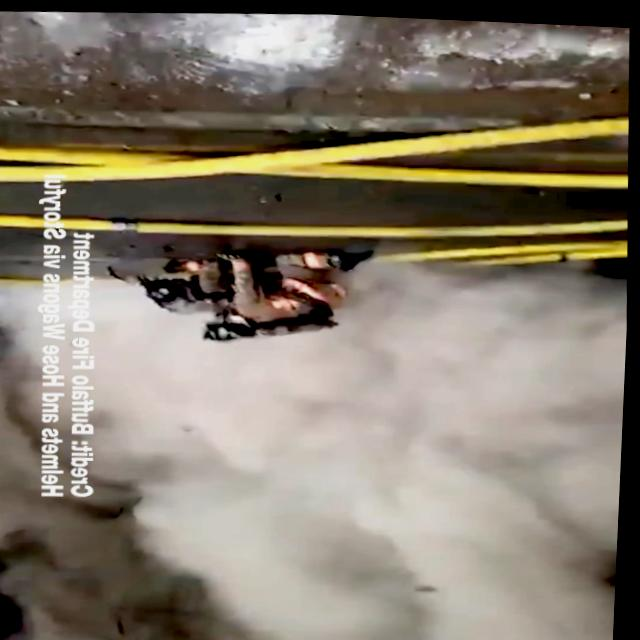no_helmet: (116, 244, 632, 640)
